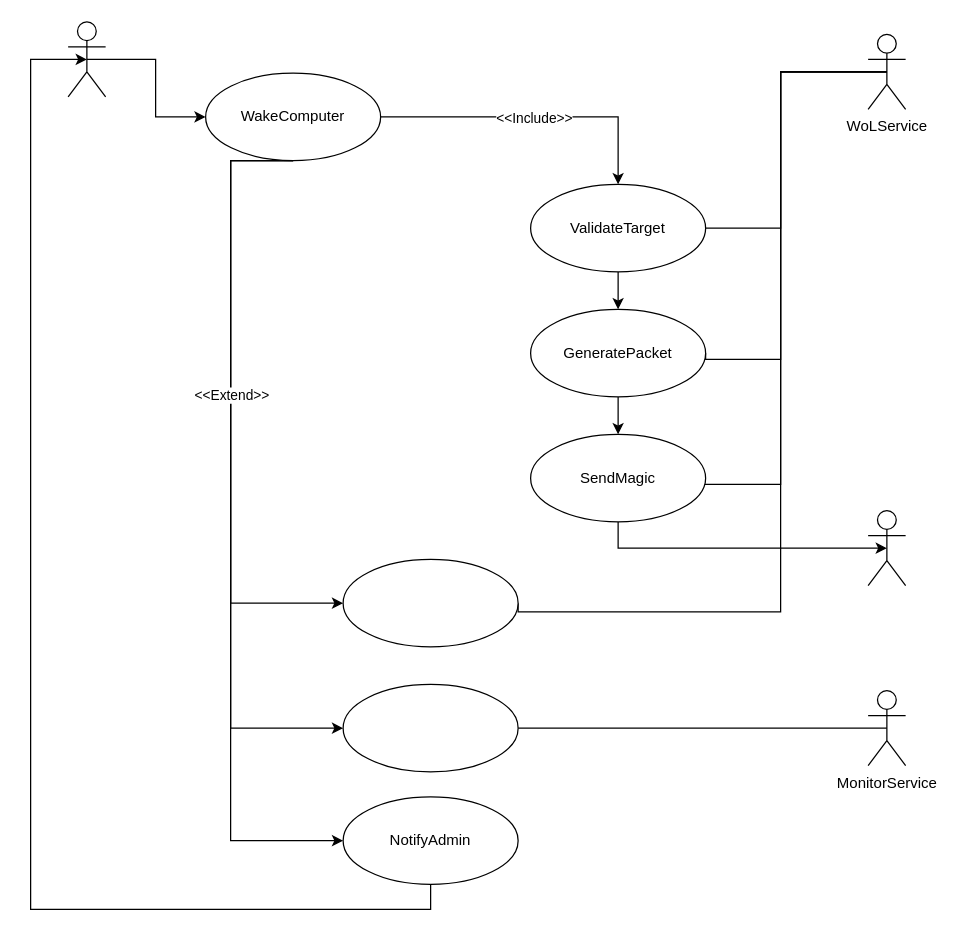
The diagram is 960 pixels wide and 941 high, and some of its shapes have lost their labels. Each missing label, with the centre of its shape:
Admin: point (86, 59)
LogEvent: point (430, 602)
MonitorStatus: point (430, 727)
ProxyComputer: point (886, 547)
